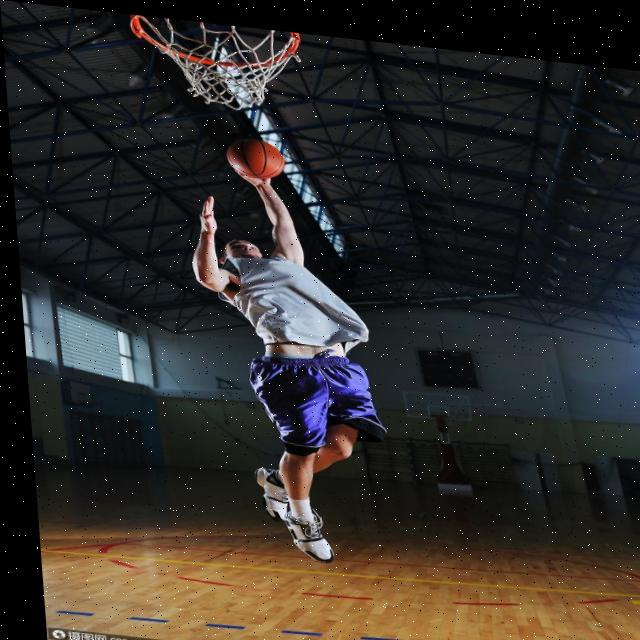basketball: (221, 135, 288, 185)
hoop: (126, 14, 310, 119)
